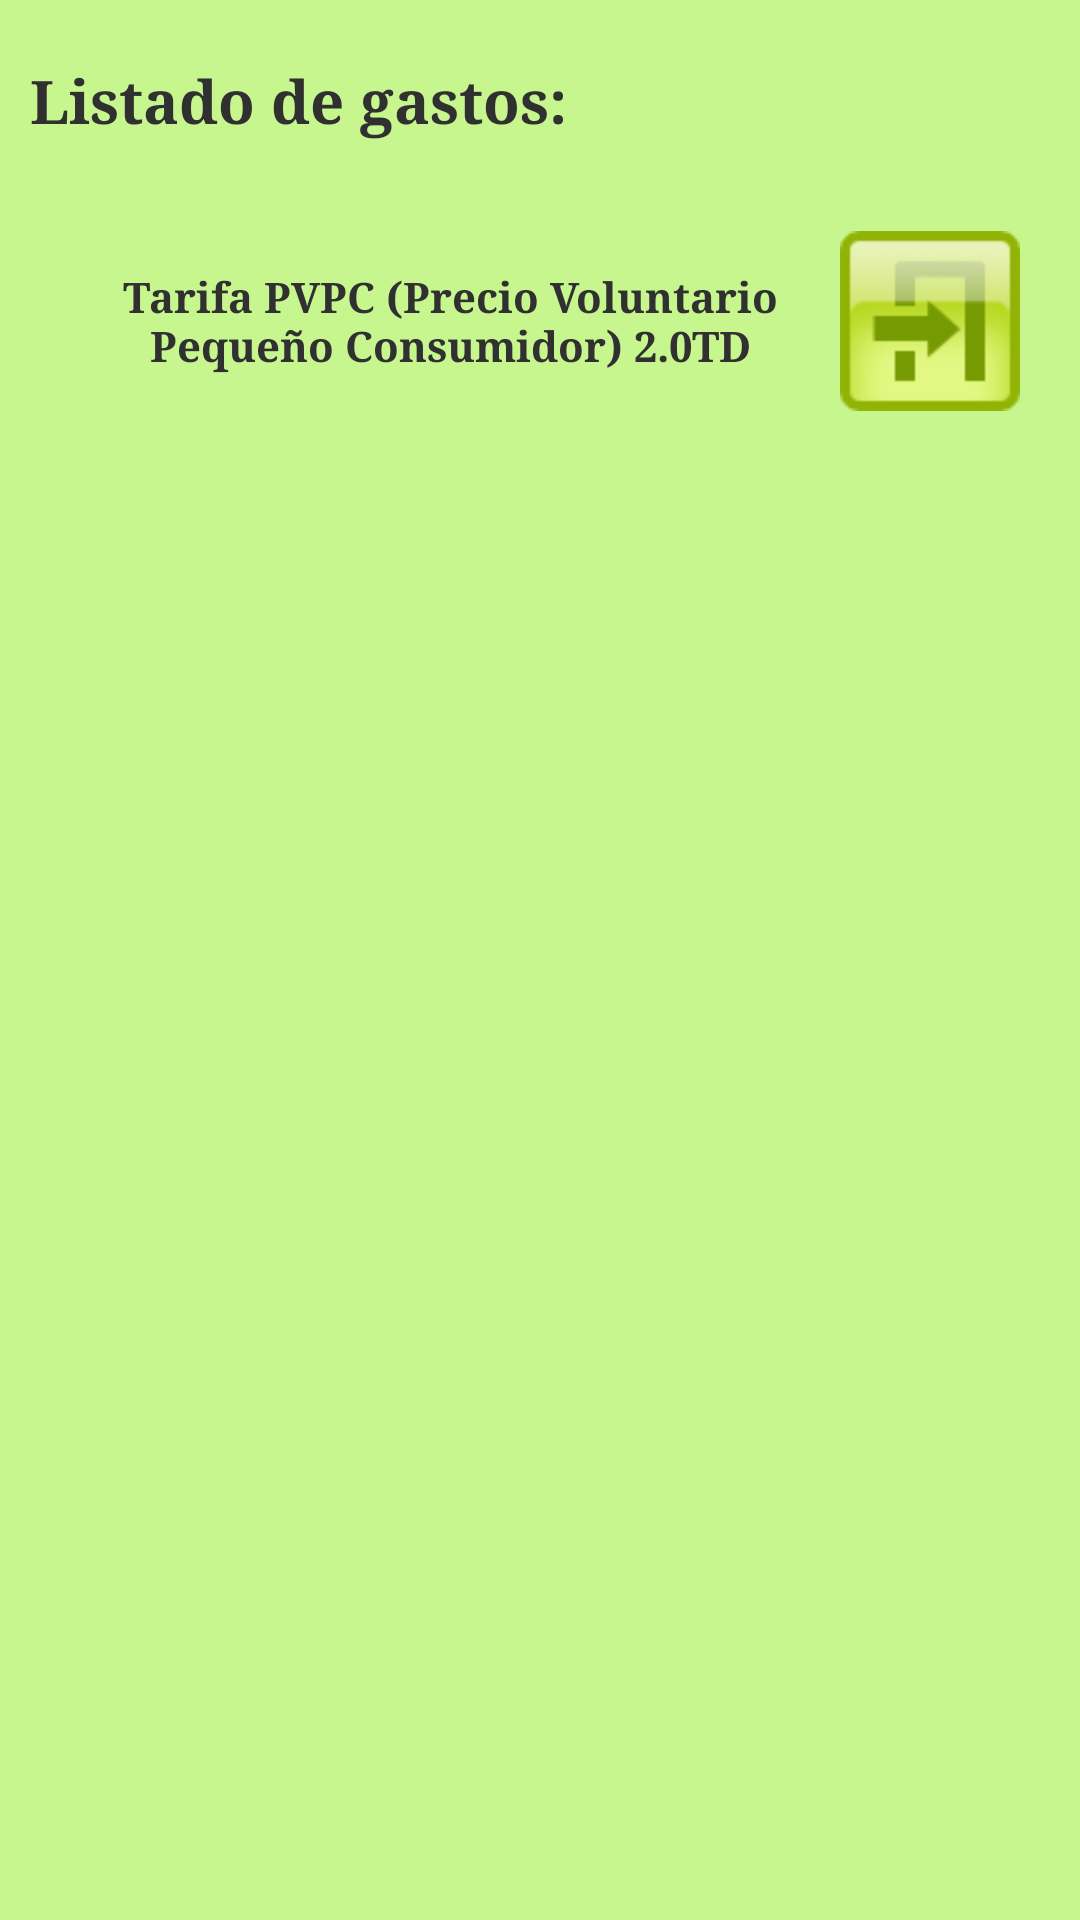

Icons on this 1080px x 1920px Android screen, each with its box as (x1, y1, x2, y2):
salir: (840, 231, 1020, 411)
